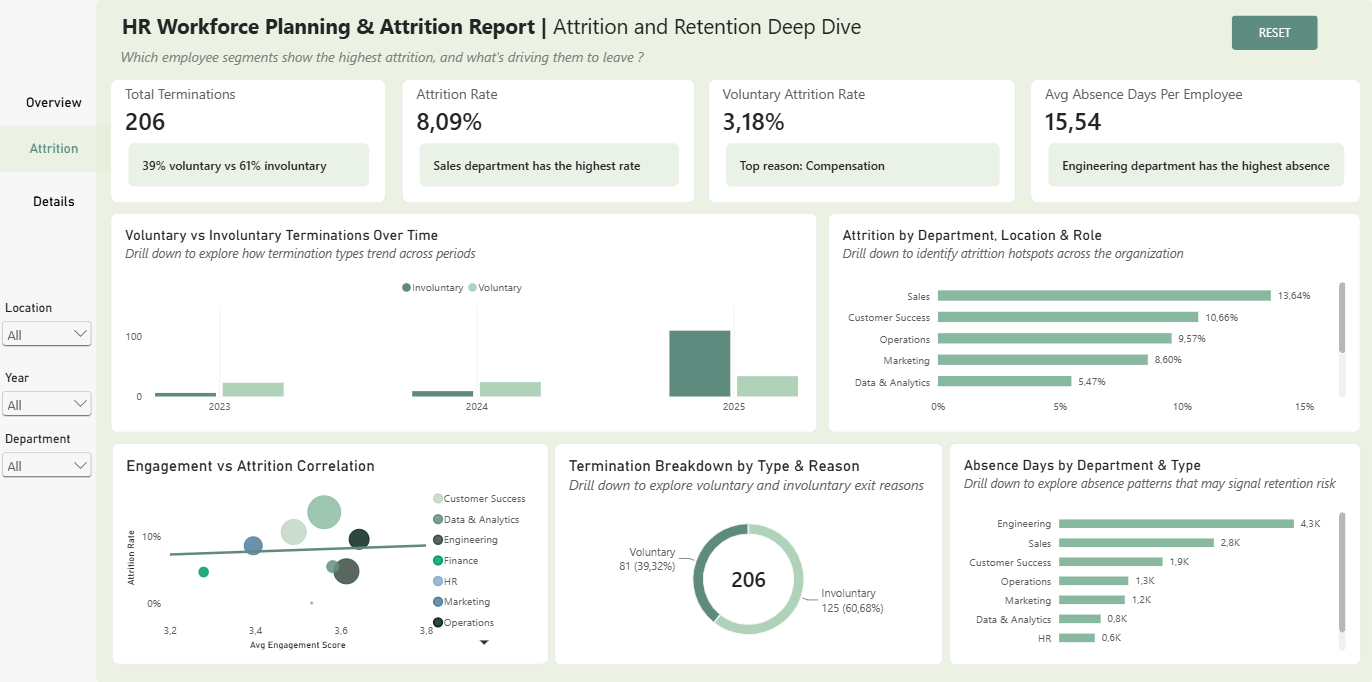

Layout of this report page (visuals, bound fields, positions):
{"tool":"powerbi","page":{"name":"Attrition","canvas":[1600,800],"ordinal":1},"visuals":[{"type":"actionButton","title":"aa","box":[0,148,130,54],"z":0},{"type":"shape","box":[114,0,1486,800],"z":1000},{"type":"cardVisual","fields":{"Data":["All Measure.Total Terminations"]},"box":[130.3,94,320.8,144.1],"z":2000},{"type":"cardVisual","fields":{"Data":["All Measure.Attrition Rate"]},"box":[469.9,94,341.3,144.1],"z":3000},{"type":"cardVisual","fields":{"Data":["All Measure.Voluntary Attrition Rate"]},"box":[824.9,94,358.5,144.1],"z":4000},{"type":"cardVisual","fields":{"Data":["All Measure.Avg Absence Days Per Employee"]},"box":[1200.6,94,384.3,144.7],"z":5000},{"type":"clusteredColumnChart","title":"Voluntary vs Involuntary Terminations Over Time","fields":{"Category":["DimDate.Year","DimDate.Quarter","DimDate.MonthName"],"Series":["FactEmployeeEvents.TerminationType"],"Y":["All Measure.Total Terminations"]},"box":[130.3,250.1,821.6,255.6],"z":6000},{"type":"clusteredBarChart","title":"Attrition by Department, Location & Role","fields":{"Category":["DimDepartment.Department","DimLocation.Location","DimEmployee.Role"],"Y":["All Measure.Attrition Rate"]},"box":[965.6,250.1,619.2,255.6],"z":7000},{"type":"scatterChart","title":"Engagement vs Attrition Correlation","fields":{"Series":["DimDepartment.Department"],"Size":["All Measure.Total Terminations"],"X":["All Measure.Avg Engagement Score"],"Y":["All Measure.Attrition Rate"]},"box":[132.1,518,507.7,257.3],"z":8000},{"type":"donutChart","title":"Termination Breakdown by Type & Reason","fields":{"Category":["FactEmployeeEvents.TerminationType","FactEmployeeEvents.TerminationReason"],"Y":["All Measure.Total Terminations"]},"box":[654.6,518,450,257.5],"z":9000},{"type":"clusteredBarChart","title":"Absence Days by Department & Type","fields":{"Category":["DimDepartment.Department","FactAbsence.AbsenceType"],"Y":["All Measure.Total Absence Days"]},"box":[1121.6,518,462,258],"z":10000},{"type":"slicer","fields":{"Values":["DimLocation.Location"]},"box":[0,351.2,113.8,71.2],"z":11000},{"type":"slicer","fields":{"Values":["DimDate.Year"]},"box":[0,433.8,113.8,71.2],"z":12000},{"type":"slicer","fields":{"Values":["DimDepartment.Department"]},"box":[0,505,113.8,71.2],"z":13000},{"type":"actionButton","title":"aa","box":[0,210,130,54],"z":14000},{"type":"actionButton","title":"aa","box":[0,94,130,54],"z":15000},{"type":"textbox","box":[144,16,1110,48],"z":16000},{"type":"textbox","box":[142,56,1110,48],"z":17000},{"type":"actionButton","box":[1434,20,100,40],"z":18000}]}

Visuals, with their boxes on the page's 1600x800 design canvas (x1, y1, x2, y2). These are canvas units, not pixel positions in the 1372x682 screenshot, which may show the page scaled, cropped or inside an application window:
"aa" actionButton: detection(0, 148, 130, 202)
shape: detection(114, 0, 1600, 800)
cardVisual - All Measure.Total Terminations: detection(130, 94, 451, 238)
cardVisual - All Measure.Attrition Rate: detection(470, 94, 811, 238)
cardVisual - All Measure.Voluntary Attrition Rate: detection(825, 94, 1183, 238)
cardVisual - All Measure.Avg Absence Days Per Employee: detection(1201, 94, 1585, 239)
"Voluntary vs Involuntary Terminations Over Time" clusteredColumnChart: detection(130, 250, 952, 506)
"Attrition by Department, Location & Role" clusteredBarChart: detection(966, 250, 1585, 506)
"Engagement vs Attrition Correlation" scatterChart: detection(132, 518, 640, 775)
"Termination Breakdown by Type & Reason" donutChart: detection(655, 518, 1105, 776)
"Absence Days by Department & Type" clusteredBarChart: detection(1122, 518, 1584, 776)
slicer - DimLocation.Location: detection(0, 351, 114, 422)
slicer - DimDate.Year: detection(0, 434, 114, 505)
slicer - DimDepartment.Department: detection(0, 505, 114, 576)
"aa" actionButton: detection(0, 210, 130, 264)
"aa" actionButton: detection(0, 94, 130, 148)
textbox: detection(144, 16, 1254, 64)
textbox: detection(142, 56, 1252, 104)
actionButton: detection(1434, 20, 1534, 60)
